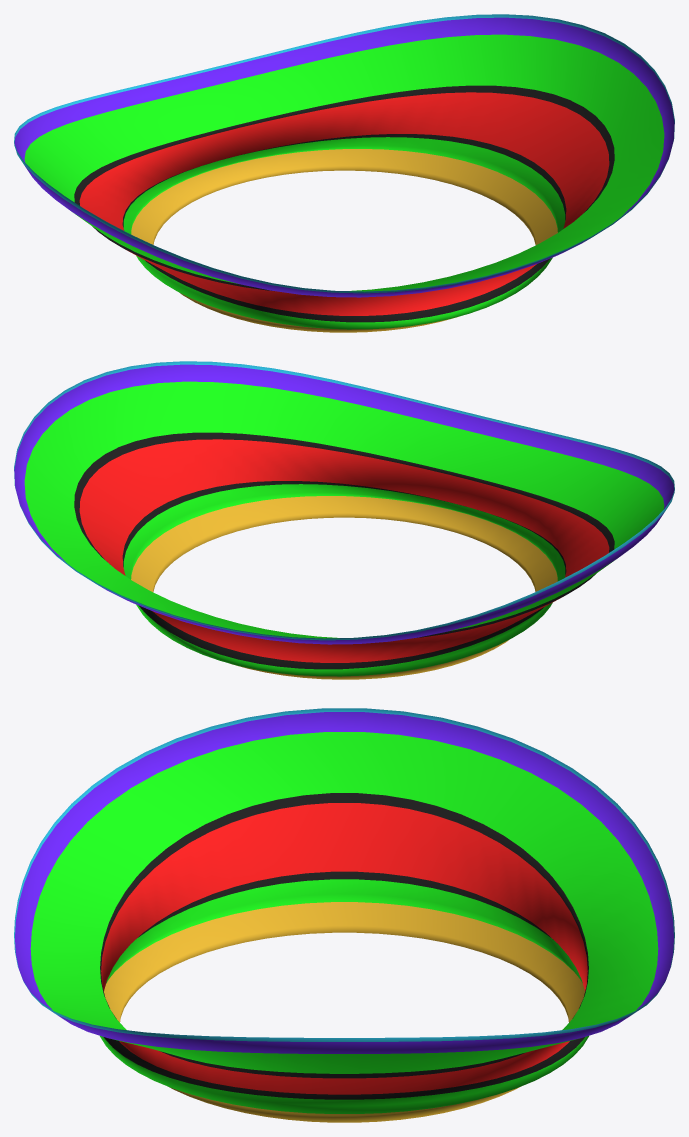
File: Psion Arena.FBX
The picture shows the model from 3 angles, top to bottom: view 1: azimuth 30°, elevation 25°; view 2: azimuth 150°, elevation 25°; view 3: azimuth 270°, elevation 25°; orthographic projection. The views are drawn at different scales.
Parts seen in each view (by area): view 1: Psion Arena; view 2: Psion Arena; view 3: Psion Arena.
Boxes of the visible parts, x1=… form: Psion Arena: x1=14, y1=14, x2=674, y2=332; Psion Arena: x1=14, y1=361, x2=674, y2=679; Psion Arena: x1=14, y1=708, x2=674, y2=1122.
Bounding box in the file's own units: 81.25 × 17.77 × 68.78.
